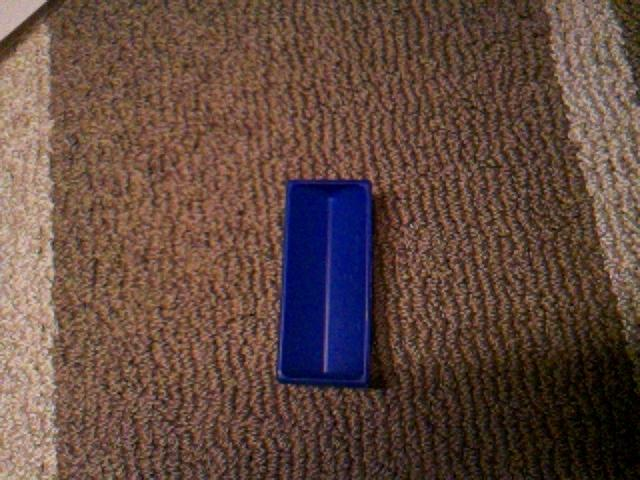blue: (276, 178, 374, 389)
